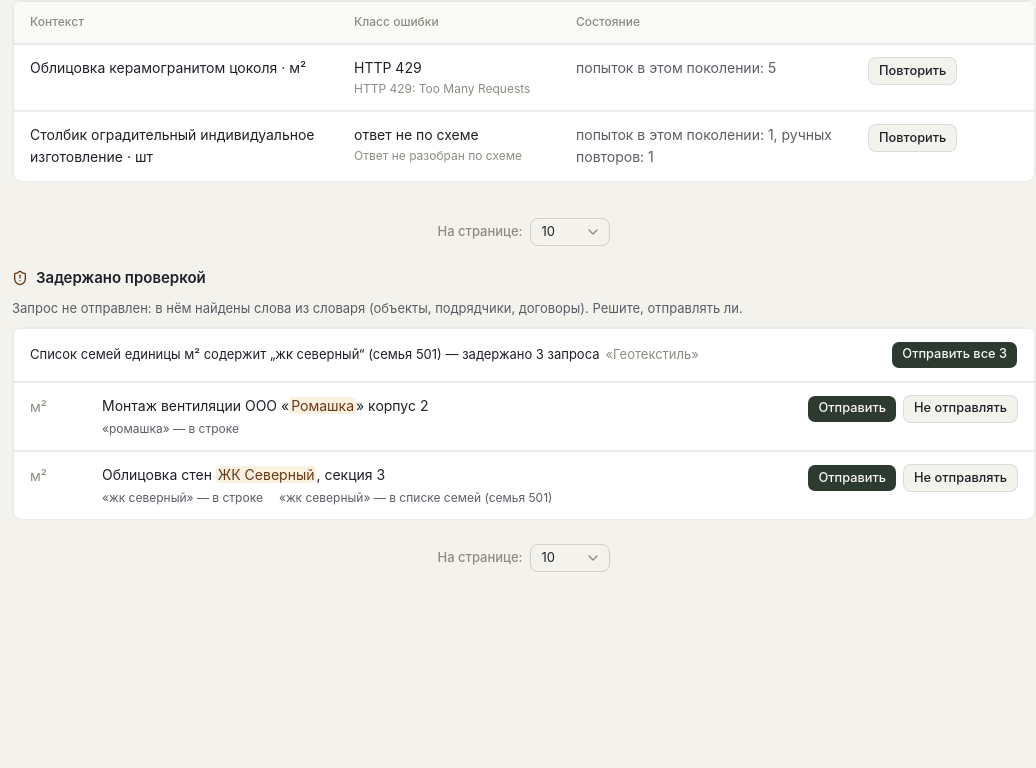
Test: ErrorsQueue — задания в ошибке › «Повторить» шлёт повтор именно этого задания и сообщает о возврате в очередь
The width and height of the screenshot is (1036, 768).
Click the button "Повторить" in the row of "Ответ не разобран по схеме": (913, 138) [868,124,957,152]
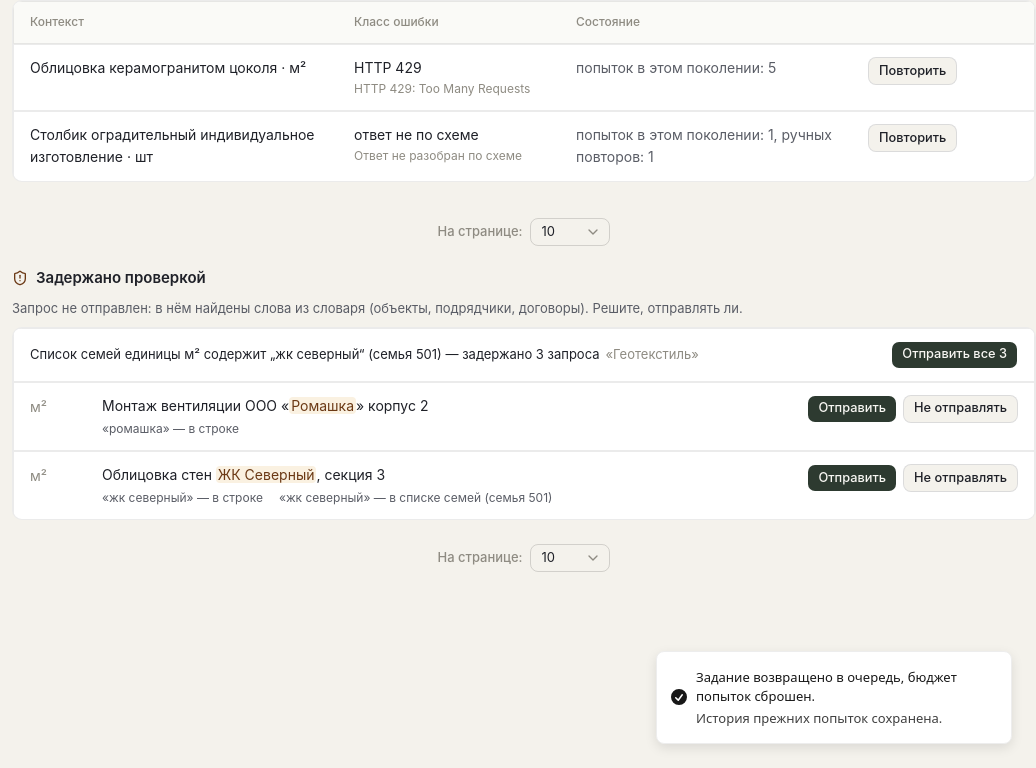
Now the text "Задание возвращено в очередь, бюджет попыток сброшен." is shown, box [696,668,995,707]
Now the text "История прежних попыток сохранена." is shown, box [696,709,942,727]
